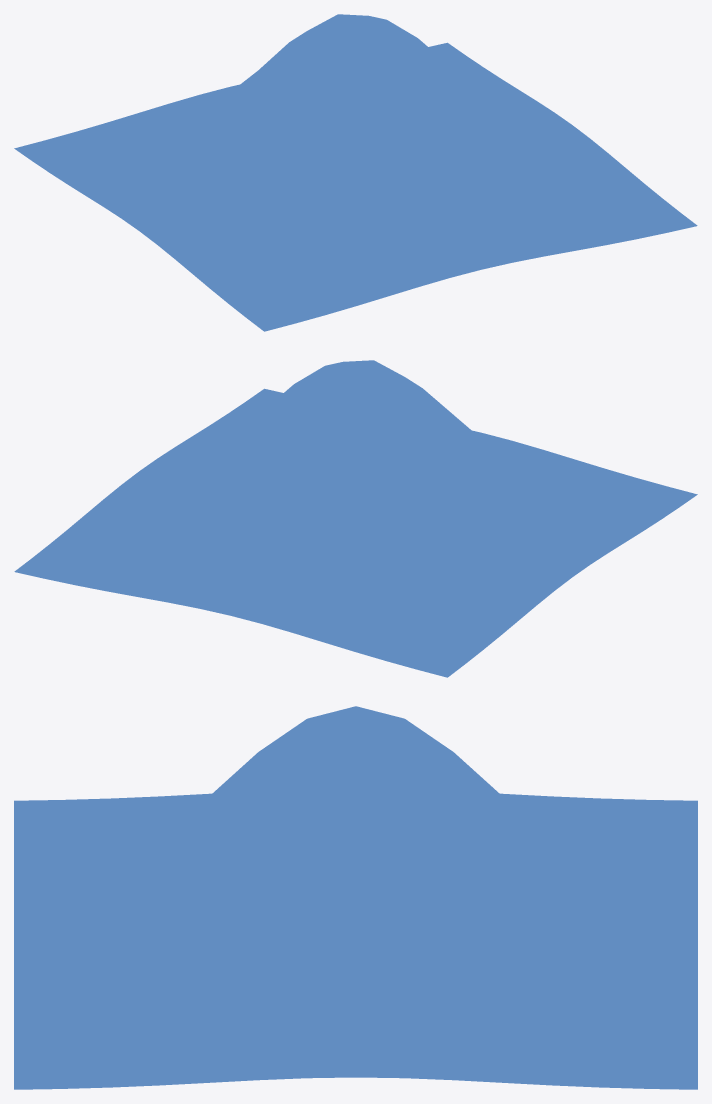
Rendered from m10_morph.fbx.
The picture shows the model from 3 angles, top to bottom: view 1: azimuth 30°, elevation 25°; view 2: azimuth 150°, elevation 25°; view 3: azimuth 270°, elevation 25°; orthographic projection. The views are drawn at different scales.
Visible parts, largest first — view 1: MorphPlane; view 2: MorphPlane; view 3: MorphPlane.
Part boxes in pixels (x1,y1,x2,y2): MorphPlane: (14, 14, 697, 331); MorphPlane: (14, 360, 697, 677); MorphPlane: (14, 706, 697, 1089).
Size of the model in its own units: 2.4 by 0.8972 by 2.4.
